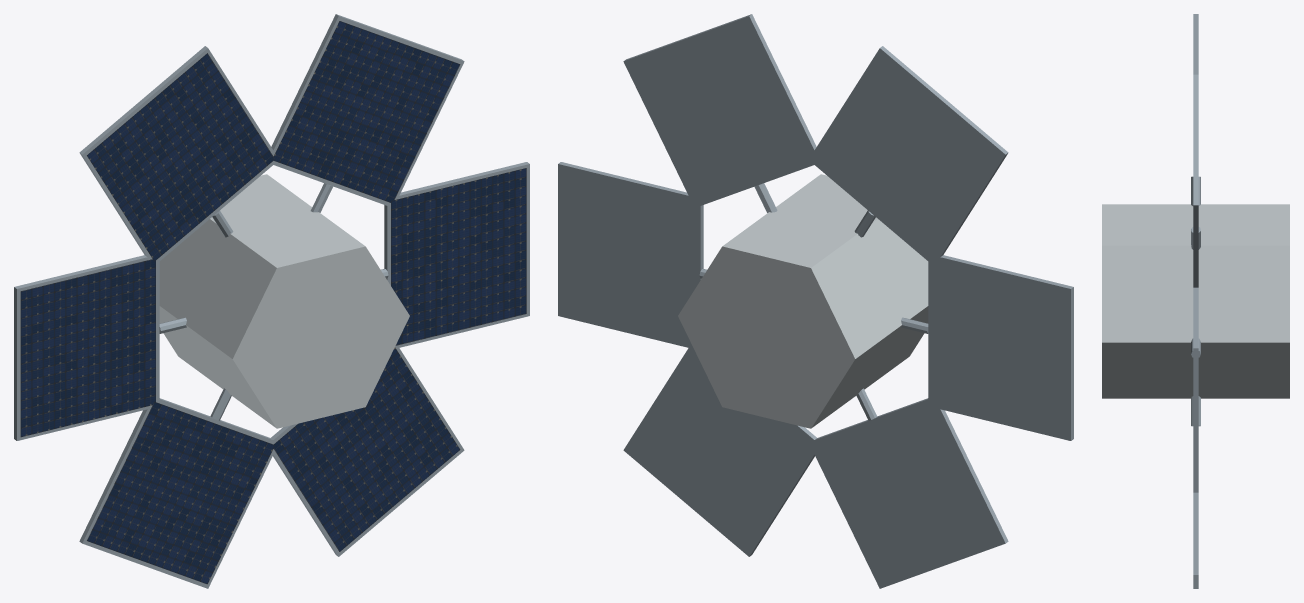
File: ref-tabletsat-2u-eo-40017.glb
3 renders of one model, left to right at view 1: azimuth 30°, elevation 25°; view 2: azimuth 150°, elevation 25°; view 3: azimuth 270°, elevation 25°, orthographic. The views are drawn at different scales.
Visible parts, largest first — view 1: Photovoltaic laminates (×6), Spacecraft body, Array frame (×6); view 2: Array frame (×6), Spacecraft body; view 3: Spacecraft body, Array frame (×4).
Boxes of the visible parts, bbox=[...] form: Photovoltaic laminates (×6): bbox=[20, 21, 526, 584]; Spacecraft body: bbox=[159, 174, 409, 428]; Array frame (×6): bbox=[14, 14, 529, 588]; Array frame (×6): bbox=[558, 14, 1073, 588]; Spacecraft body: bbox=[678, 174, 928, 428]; Spacecraft body: bbox=[1102, 204, 1289, 398]; Array frame (×4): bbox=[1193, 14, 1198, 588].
Size of the model in its own units: 1.2 by 1.21 by 0.4.
3 materials, 1 textured.
